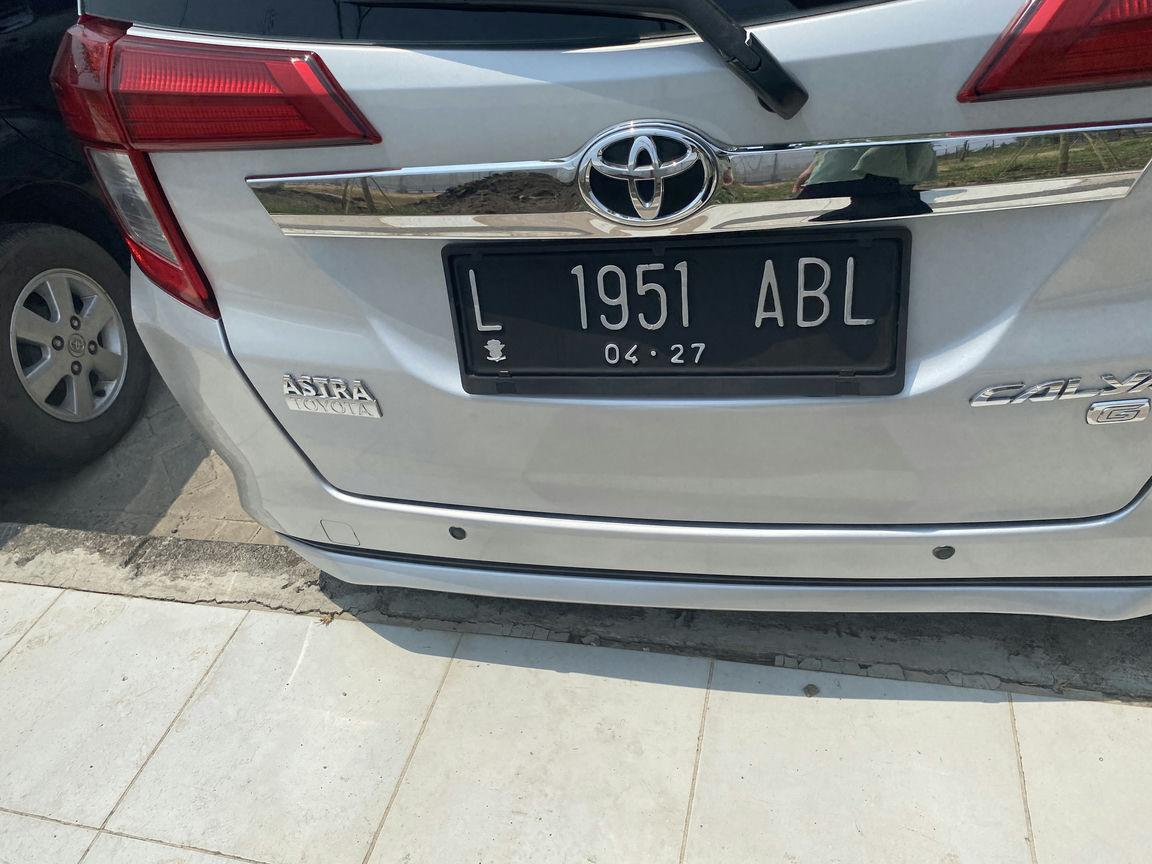plat: (445, 225, 910, 394)
